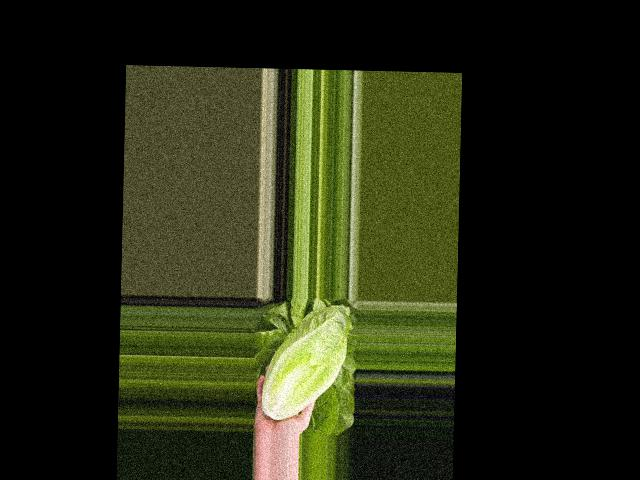lettuce: (246, 305, 352, 408)
